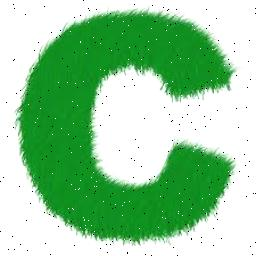c: (6, 6, 240, 242)
